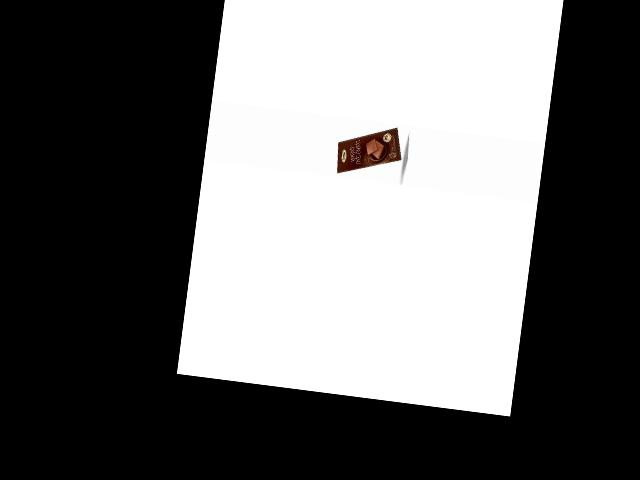chocolate: (333, 118, 408, 182)
